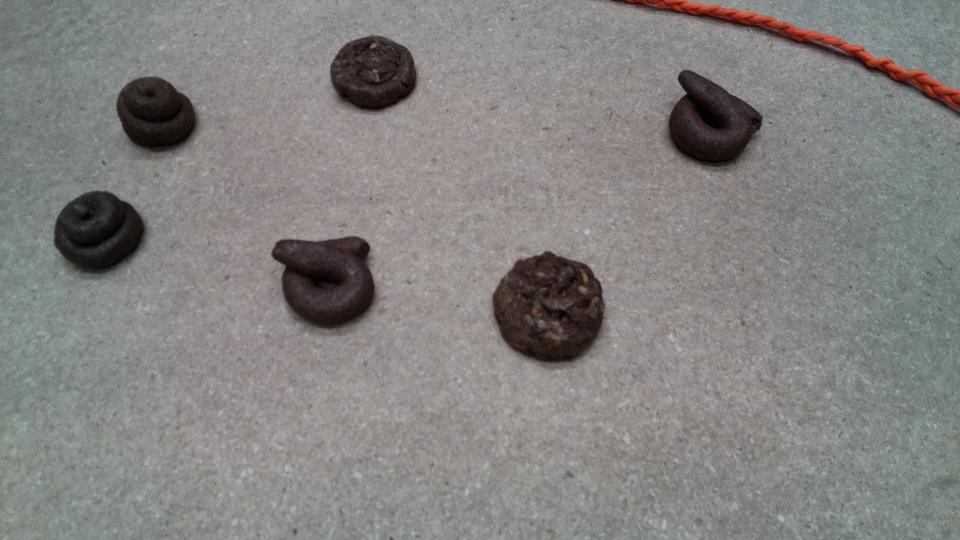poop: (490, 246, 609, 367), (268, 229, 378, 330), (665, 67, 766, 171), (50, 188, 147, 277), (327, 31, 421, 115), (114, 73, 201, 155)
rope: (628, 1, 960, 119)
